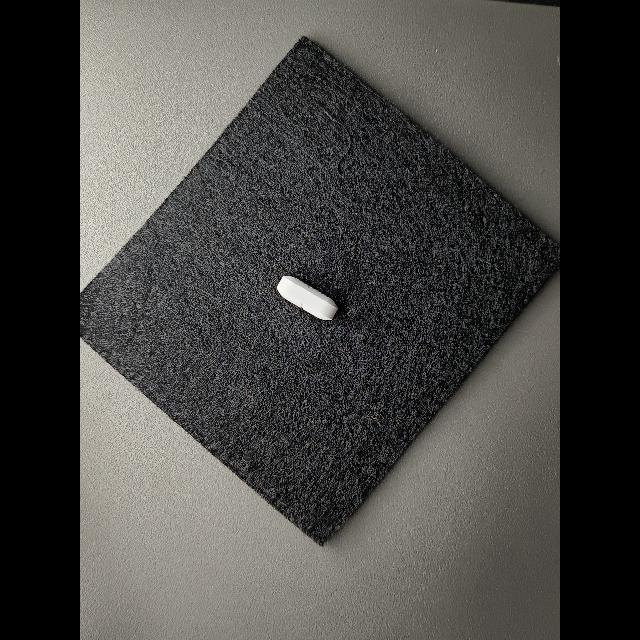Intact Pill: (276, 276, 338, 320)
